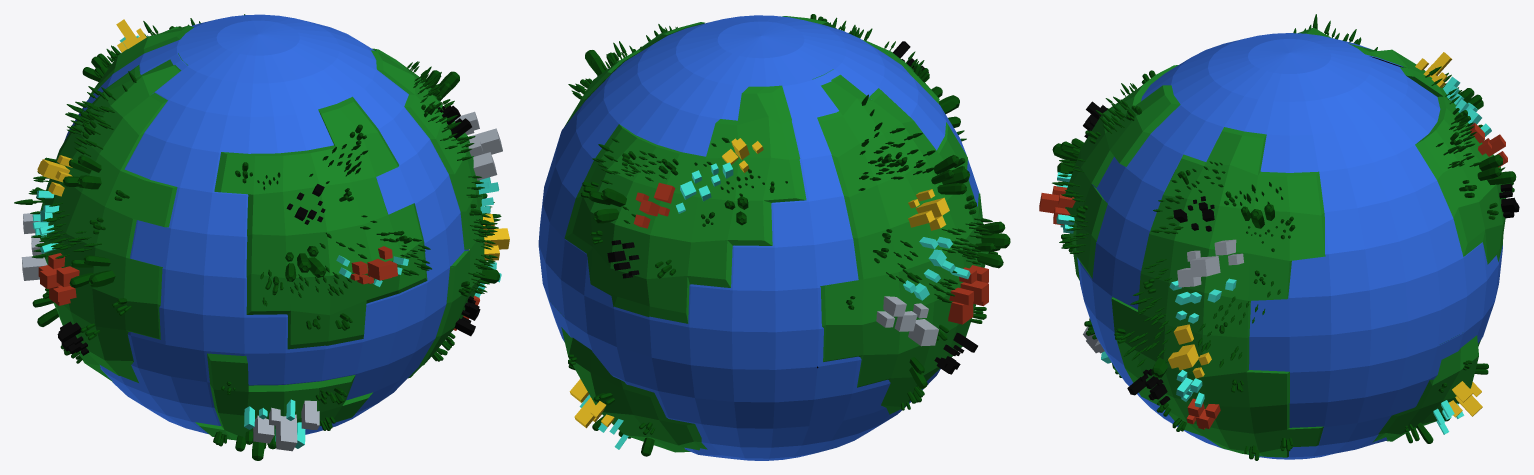
File: EarthPlanet.fbx
The picture shows the model from 3 angles, left to right: view 1: azimuth 30°, elevation 25°; view 2: azimuth 150°, elevation 25°; view 3: azimuth 270°, elevation 25°; orthographic projection. The views are drawn at different scales.
Parts seen in each view (by area): view 1: Water.003, World.007, PlantA3.003, City3.004, PlantB2.003, City1.004, City4.004, City5.004, PlantB3.003, PlantB1.003, PlantA1.003, City2.004 (+1 smaller); view 2: Water.003, World.007, PlantA3.003, City2.004, City1.004, City4.004, PlantA2.003, City3.004, PlantB3.003, City5.004, PlantB2.003, PlantA1.003 (+1 smaller); view 3: Water.003, World.007, City4.004, PlantA3.003, PlantB2.003, City2.004, City5.004, City1.004, City3.004, PlantA2.003, PlantA1.003, PlantB1.003 (+1 smaller).
Boxes of the visible parts, x1,y1,x2,y2 form: Water.003: (64,14,469,434); World.007: (40,25,484,440); PlantA3.003: (32,53,499,460); City3.004: (21,111,502,451); PlantB2.003: (14,18,498,297); City1.004: (38,246,479,330); City4.004: (32,35,501,448); City5.004: (57,105,480,355); PlantB3.003: (43,14,497,263); PlantB1.003: (32,21,501,306); PlantA1.003: (38,89,471,446); City2.004: (37,19,509,260); Water.003: (538,15,979,460); World.007: (549,16,988,452); PlantA3.003: (585,50,1010,456); City2.004: (569,138,949,428); City1.004: (633,182,988,324); City4.004: (579,162,970,449); PlantA2.003: (568,78,986,438); City3.004: (597,67,938,346); PlantB3.003: (596,26,993,252); City5.004: (607,41,977,374); PlantB2.003: (585,17,981,299); PlantA1.003: (568,14,1001,434); Water.003: (1077,33,1502,459); World.007: (1065,27,1505,457); City4.004: (1056,76,1491,434); PlantA3.003: (1052,88,1516,443); PlantB2.003: (1052,28,1481,366); City2.004: (1168,52,1482,417); City5.004: (1083,101,1519,405); City1.004: (1039,123,1507,429); City3.004: (1083,239,1243,353); PlantA2.003: (1076,108,1514,460); PlantA1.003: (1061,40,1498,451); PlantB1.003: (1059,25,1474,367).
Size of the model in its own units: 317 by 280 by 314.
